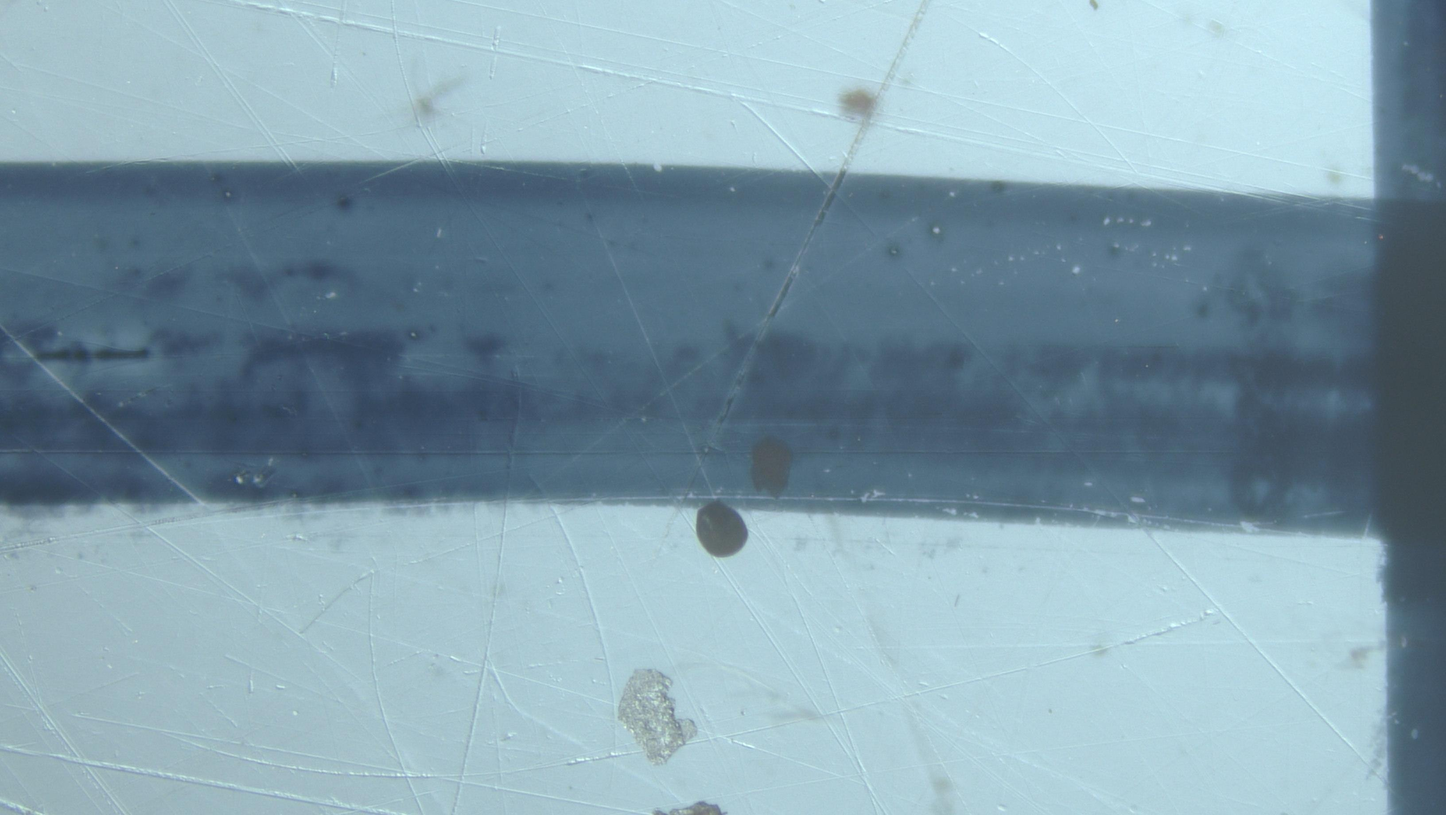live: (695, 501, 748, 559)
